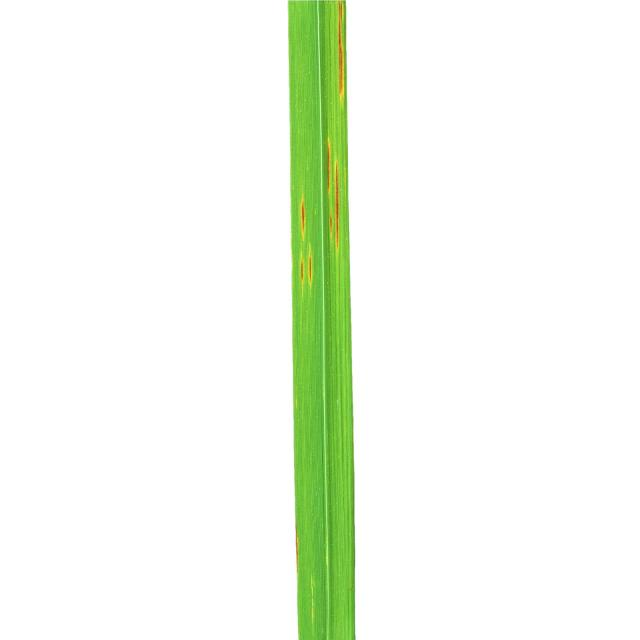Narrow brown: (237, 0, 450, 640)
